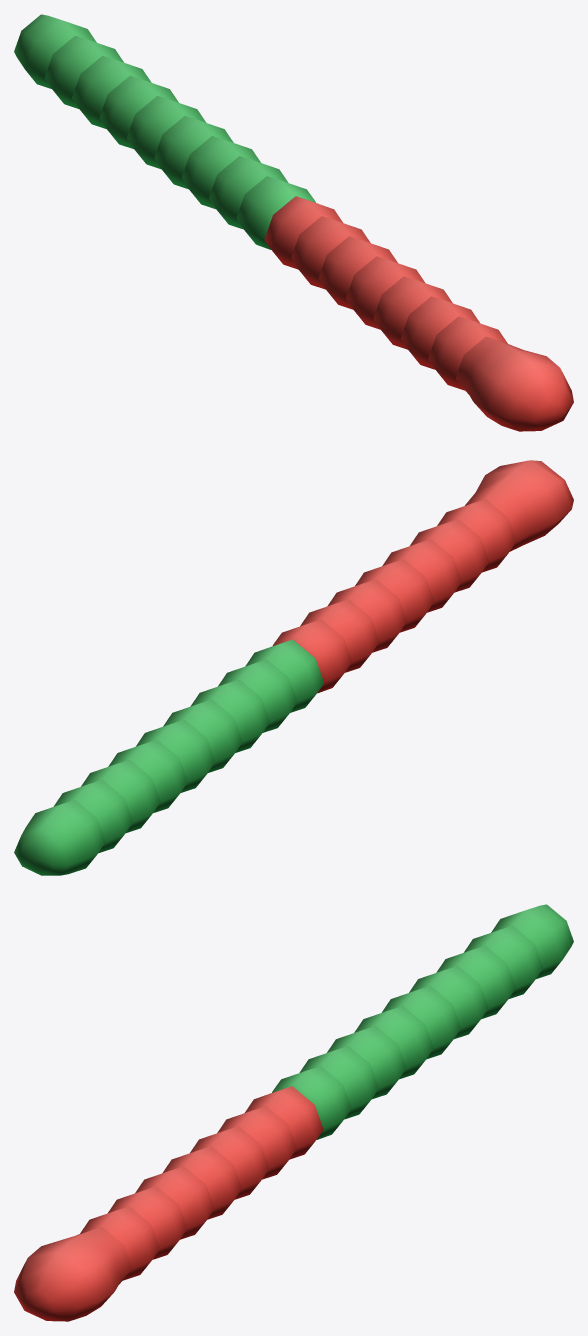
File: marmalade_snake_003.glb
The picture shows the model from 3 angles, top to bottom: view 1: azimuth 30°, elevation 25°; view 2: azimuth 150°, elevation 25°; view 3: azimuth 330°, elevation 25°; orthographic projection.
Visible parts, largest first — view 1: marmalade_snake_003; view 2: marmalade_snake_003; view 3: marmalade_snake_003.
Part boxes in pixels (x1=…): marmalade_snake_003: x1=14, y1=14, x2=573, y2=431; marmalade_snake_003: x1=14, y1=460, x2=573, y2=875; marmalade_snake_003: x1=14, y1=904, x2=573, y2=1321.
Size of the model in its own units: 0.8882 by 0.6578 by 9.35.
1 material, 1 textured.
